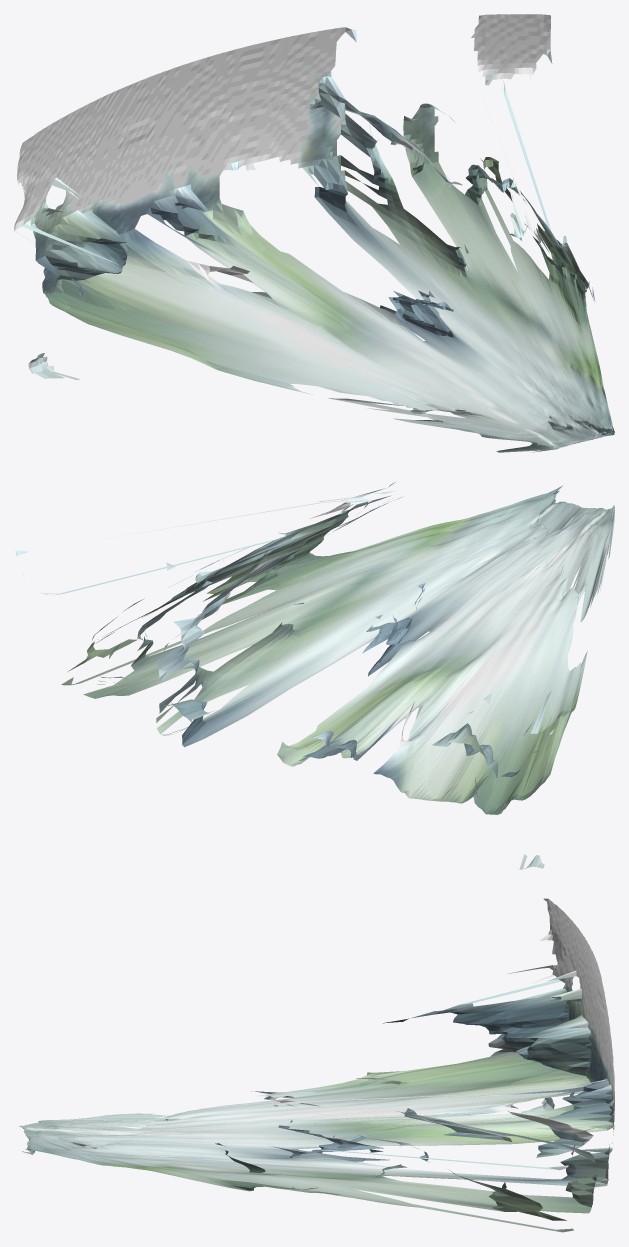
The picture shows the model from 3 angles, top to bottom: view 1: azimuth 30°, elevation 25°; view 2: azimuth 150°, elevation 25°; view 3: azimuth 270°, elevation 25°; orthographic projection. The views are drawn at different scales.
Parts seen in each view (by area): view 1: defaultobject; view 2: defaultobject; view 3: defaultobject.
Part boxes in pixels (bbox=[...]): defaultobject: bbox=[14, 14, 614, 452]; defaultobject: bbox=[14, 482, 614, 869]; defaultobject: bbox=[18, 898, 614, 1232].
Size of the model in its own units: 40.91 by 17.98 by 45.15.
Materials: 1 (1 with a texture image).
